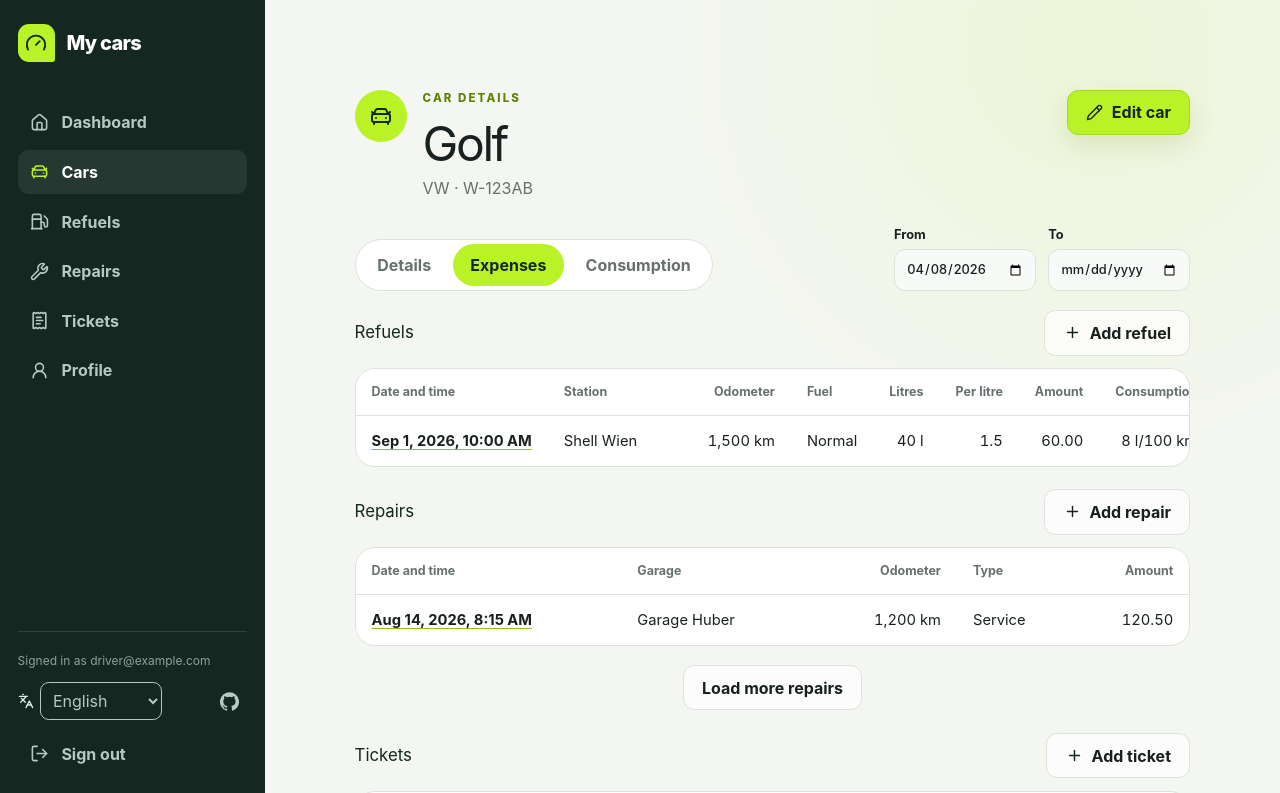
car detail expenses › appends a further page to its own section only
Click the button "Load more repairs" at (772, 688), box [683,665,862,710]
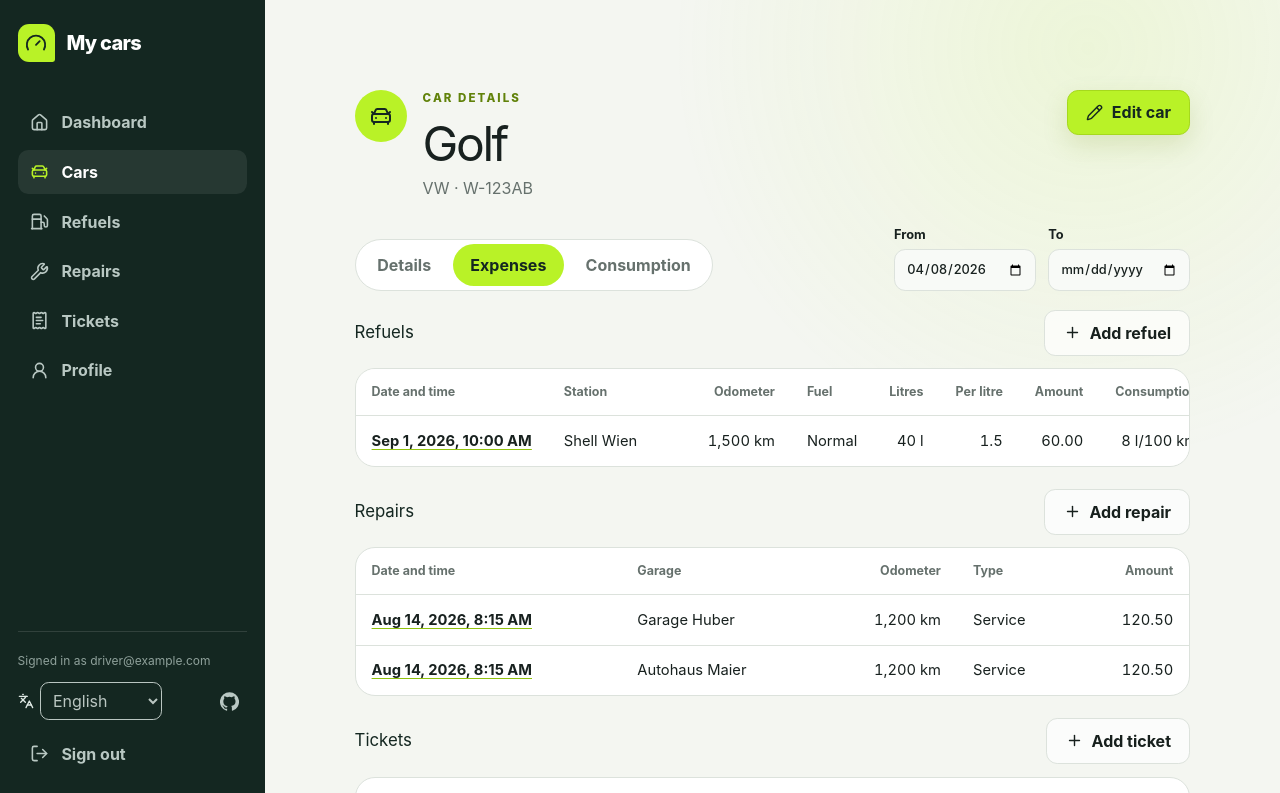
Expected: the text "Garage Huber" is shown, [621,595,820,645]
Now the text "Autohaus Maier" is shown, box [621,645,820,695]
